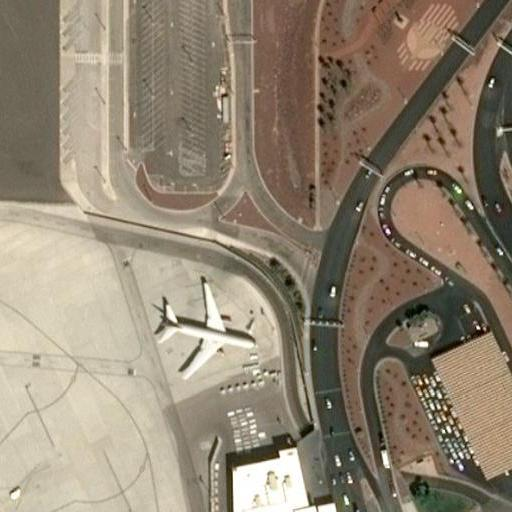Aircraft: (148, 270, 255, 377)
